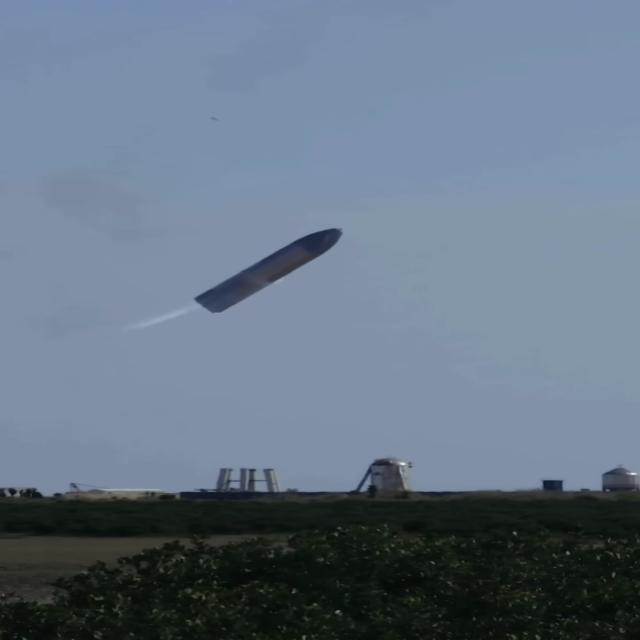Missile: (180, 220, 352, 324)
